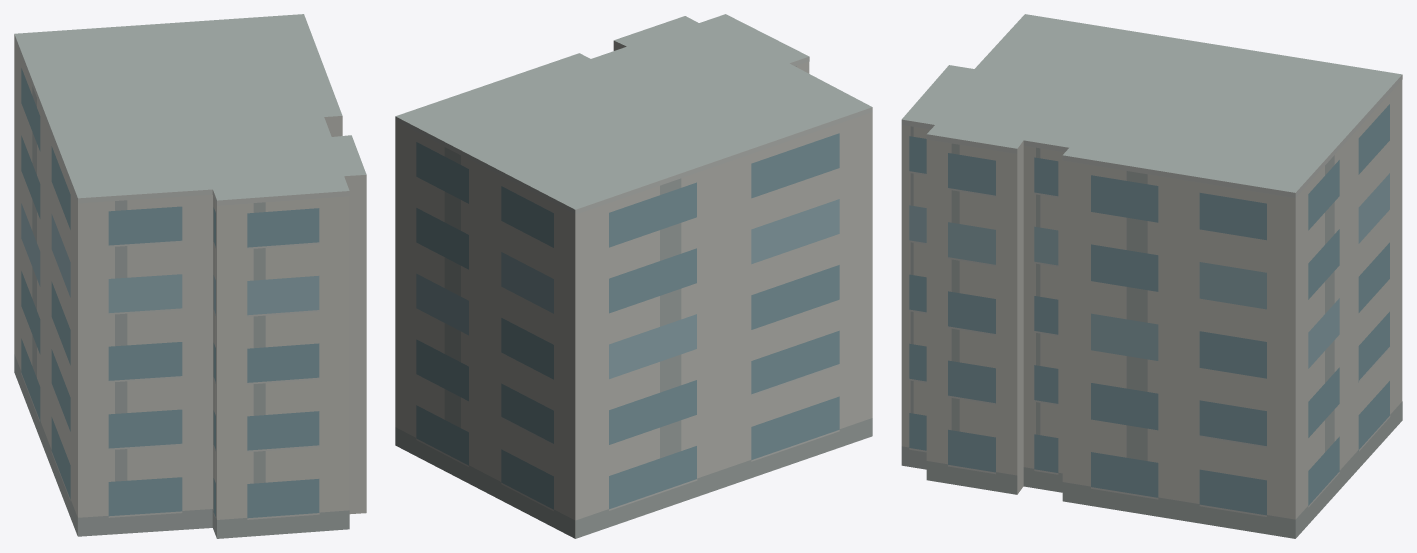
Rendered from survey-upis-32652159.glb.
3 renders of one model, left to right at view 1: azimuth 30°, elevation 25°; view 2: azimuth 150°, elevation 25°; view 3: azimuth 270°, elevation 25°, orthographic. The views are drawn at different scales.
Parts seen in each view (by area): view 1: survey-upis-32652159.tmp; view 2: survey-upis-32652159.tmp; view 3: survey-upis-32652159.tmp.
Part boxes in pixels (x1,y1,x2,y2): survey-upis-32652159.tmp: (14,14,366,538); survey-upis-32652159.tmp: (395,14,872,538); survey-upis-32652159.tmp: (901,14,1402,538).
Size of the model in its own units: 17.64 by 15.9 by 20.87.
